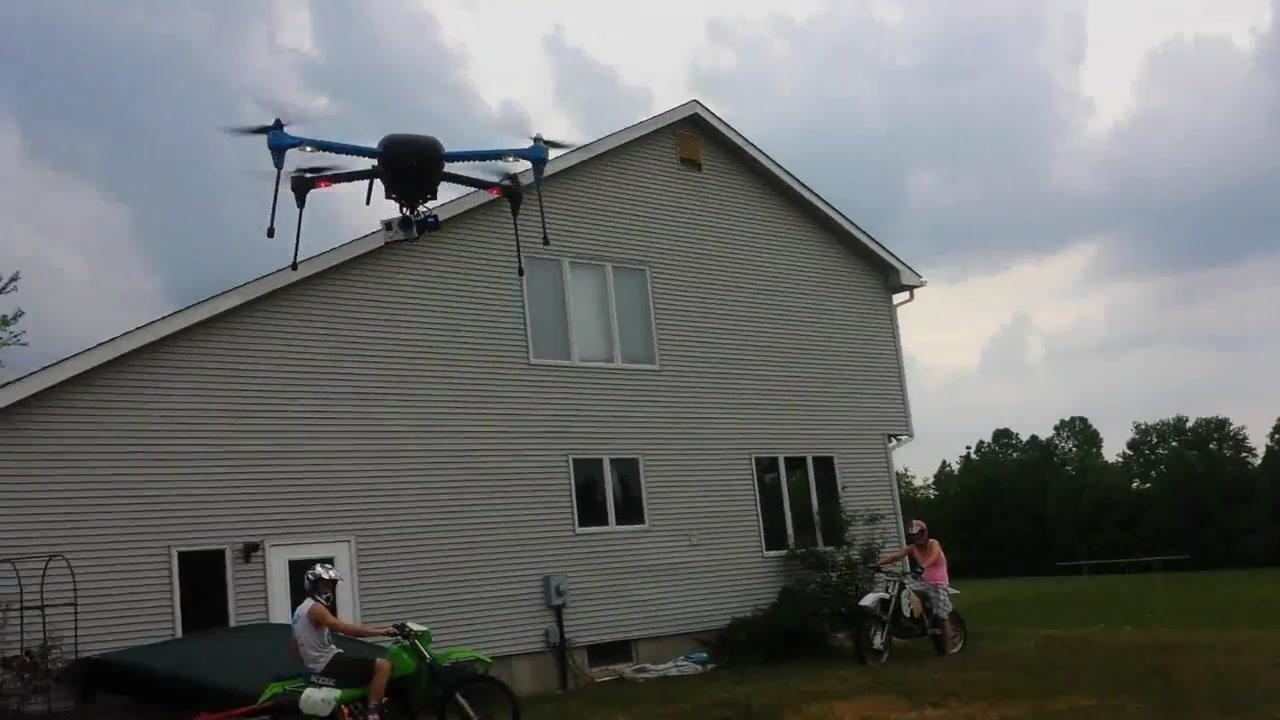UAV: (225, 118, 577, 279)
